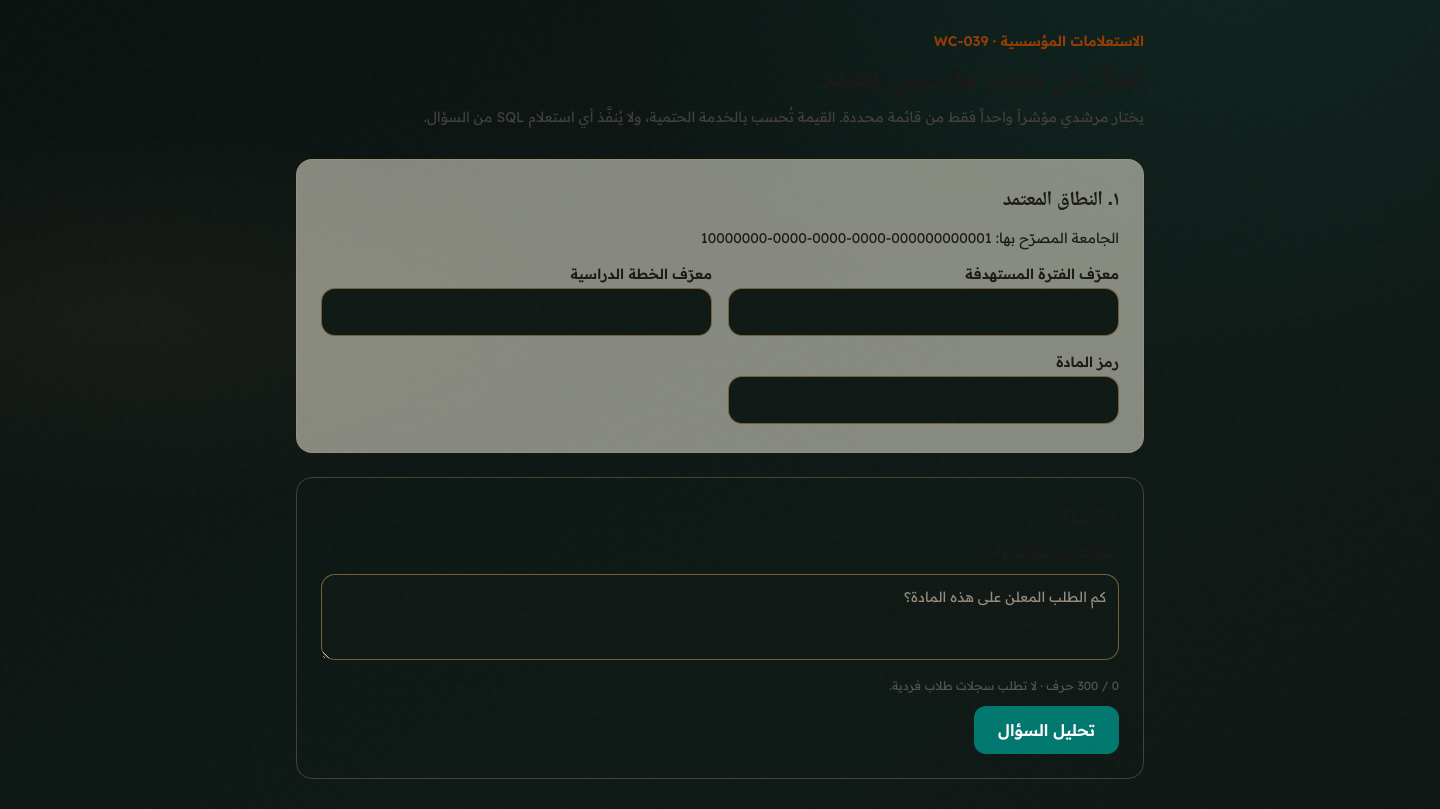
abstention is a safe state and does not show individual data
This screenshot has width=1440, height=809.
In the field labelled "معرّف الفترة المستهدفة": (924, 312) x1=728 y1=288 x2=1119 y2=336, type "20000000-0000-0000-0000-000000000002"
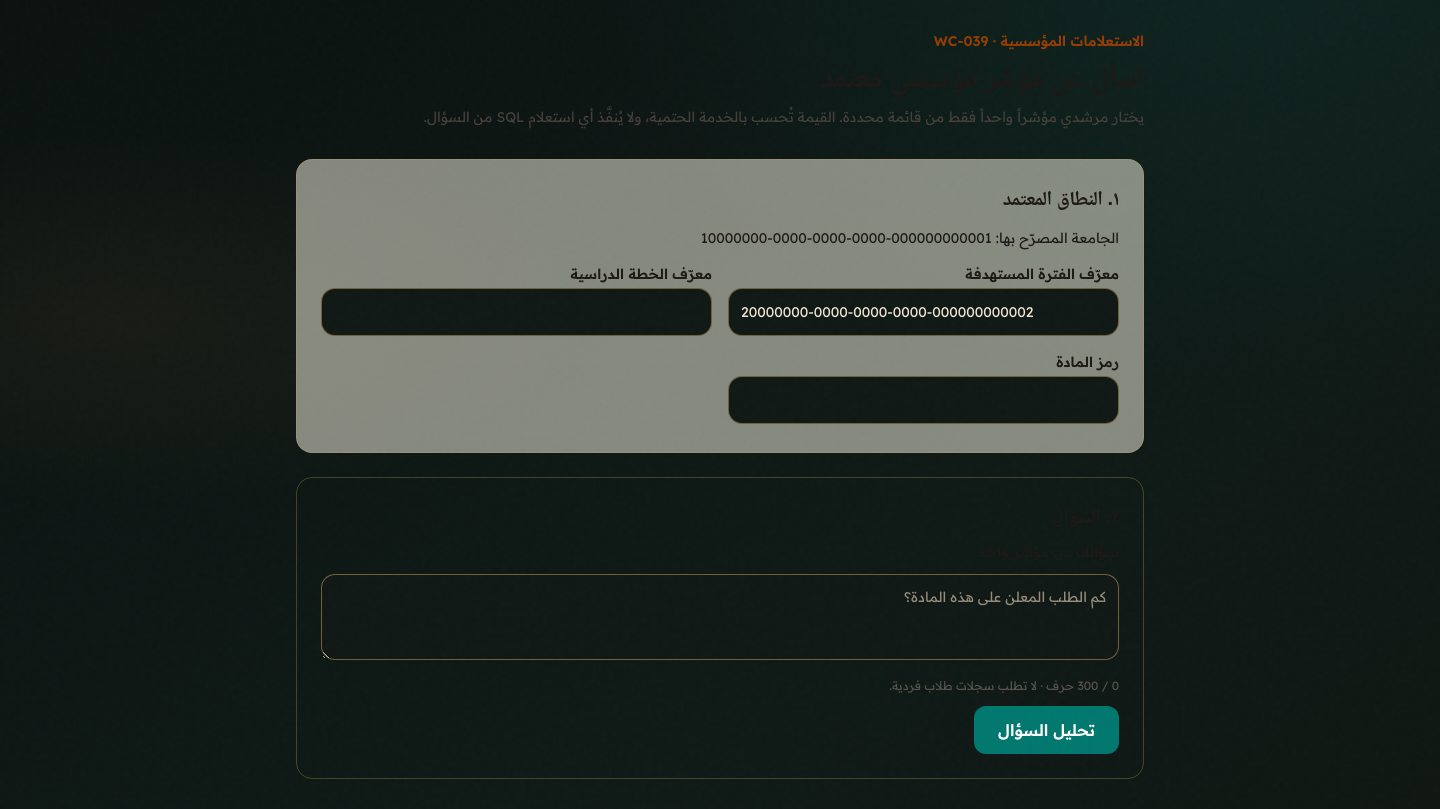
In the field labelled "معرّف الخطة الدراسية": (516, 312) x1=321 y1=288 x2=712 y2=336, type "30000000-0000-0000-0000-000000000003"
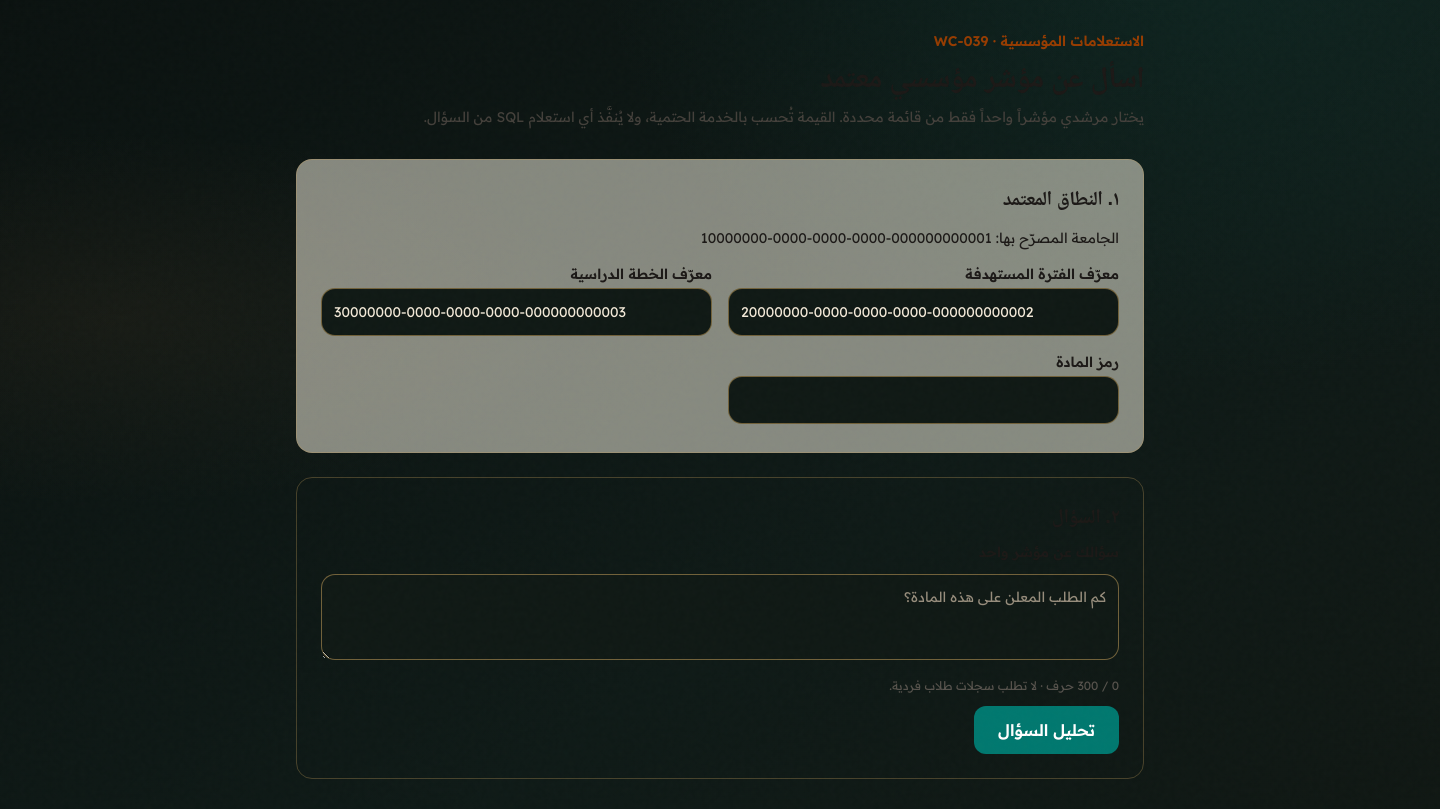
In the field labelled "رمز المادة": (924, 400) x1=728 y1=376 x2=1119 y2=424, type "cs101"
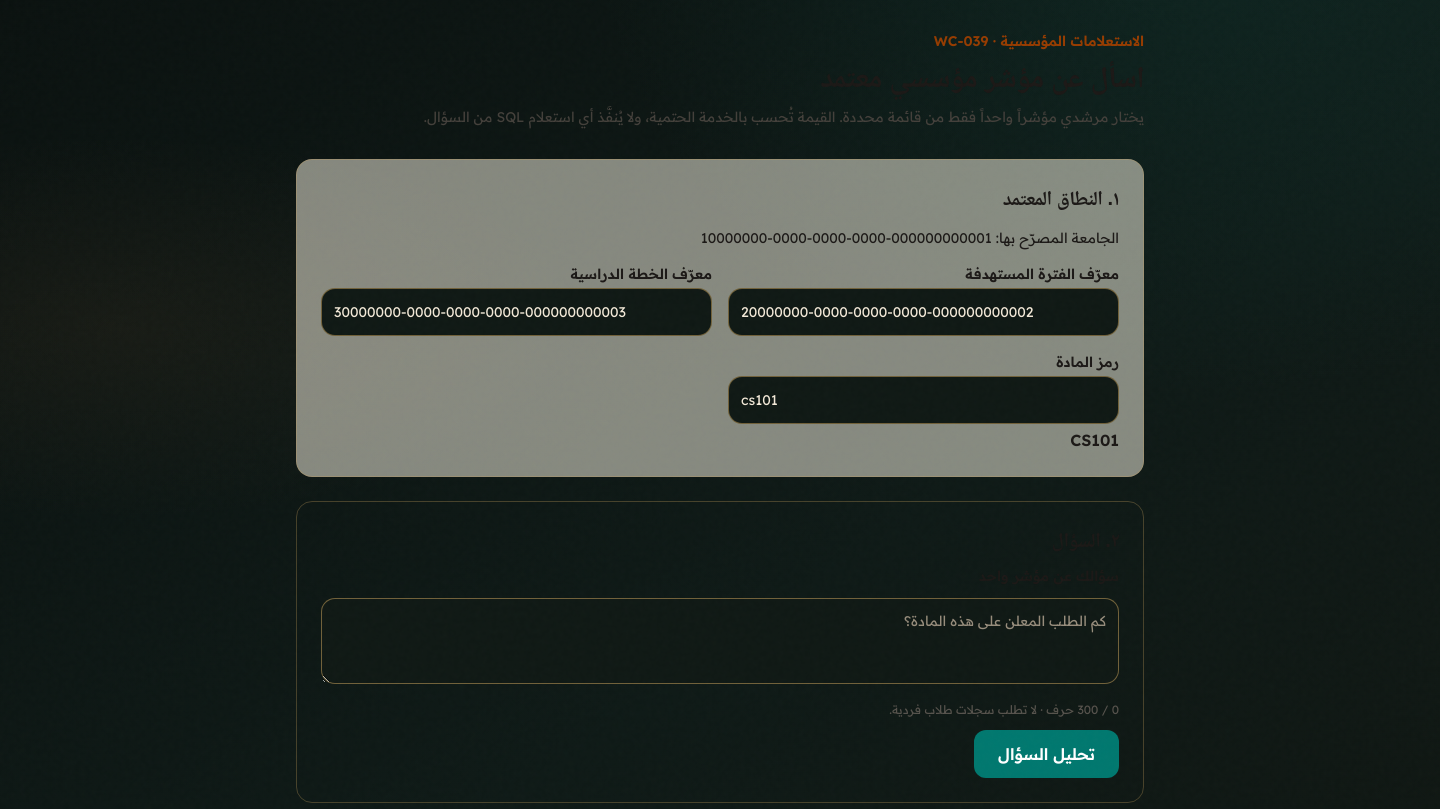
In the text box labelled "سؤالك عن مؤشر واحد": (720, 641) x1=321 y1=598 x2=1119 y2=684, type "أعطني أسماء الطلاب ومعدلاتهم"
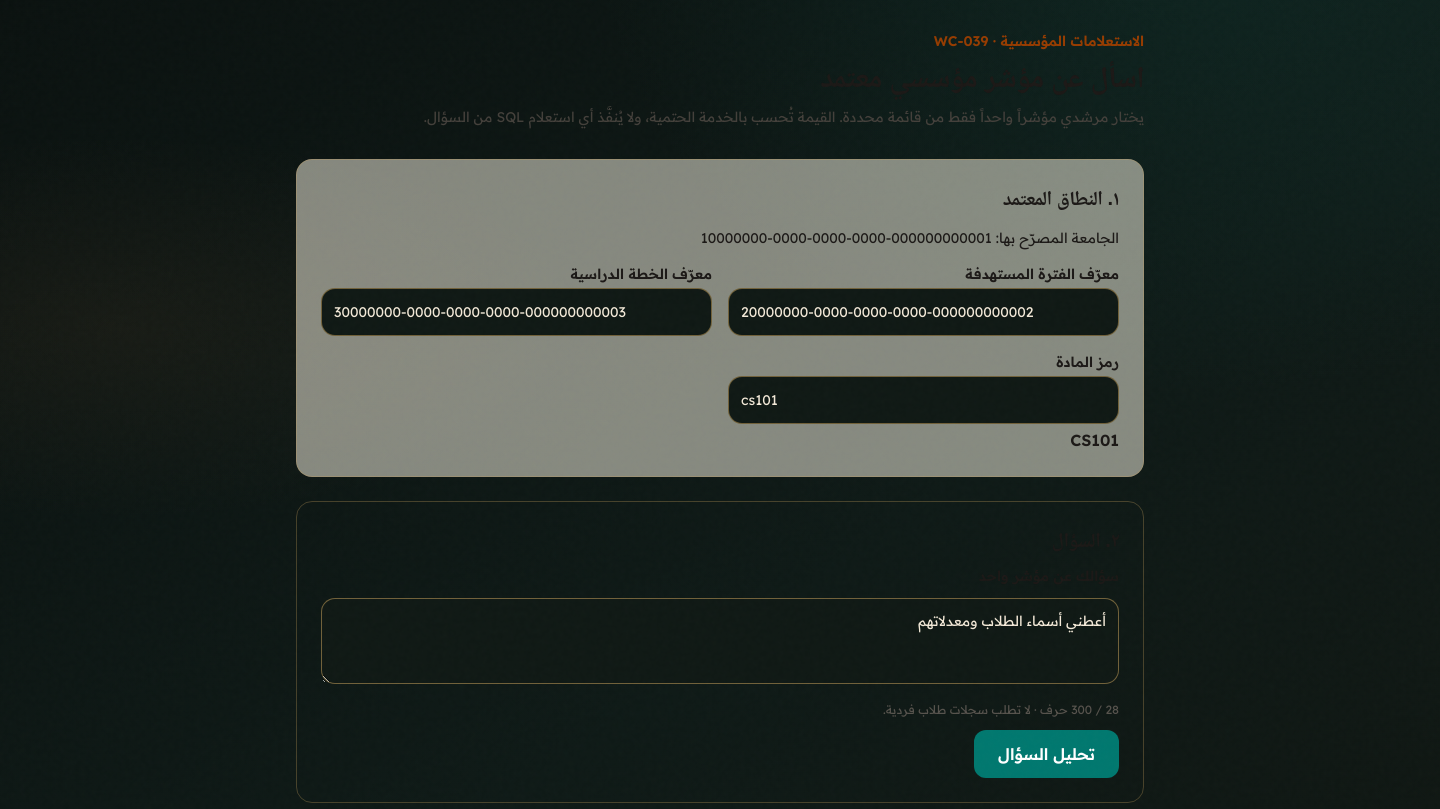
Click the button "تحليل السؤال": (1047, 754) x1=974 y1=730 x2=1119 y2=778
(page scrolled)
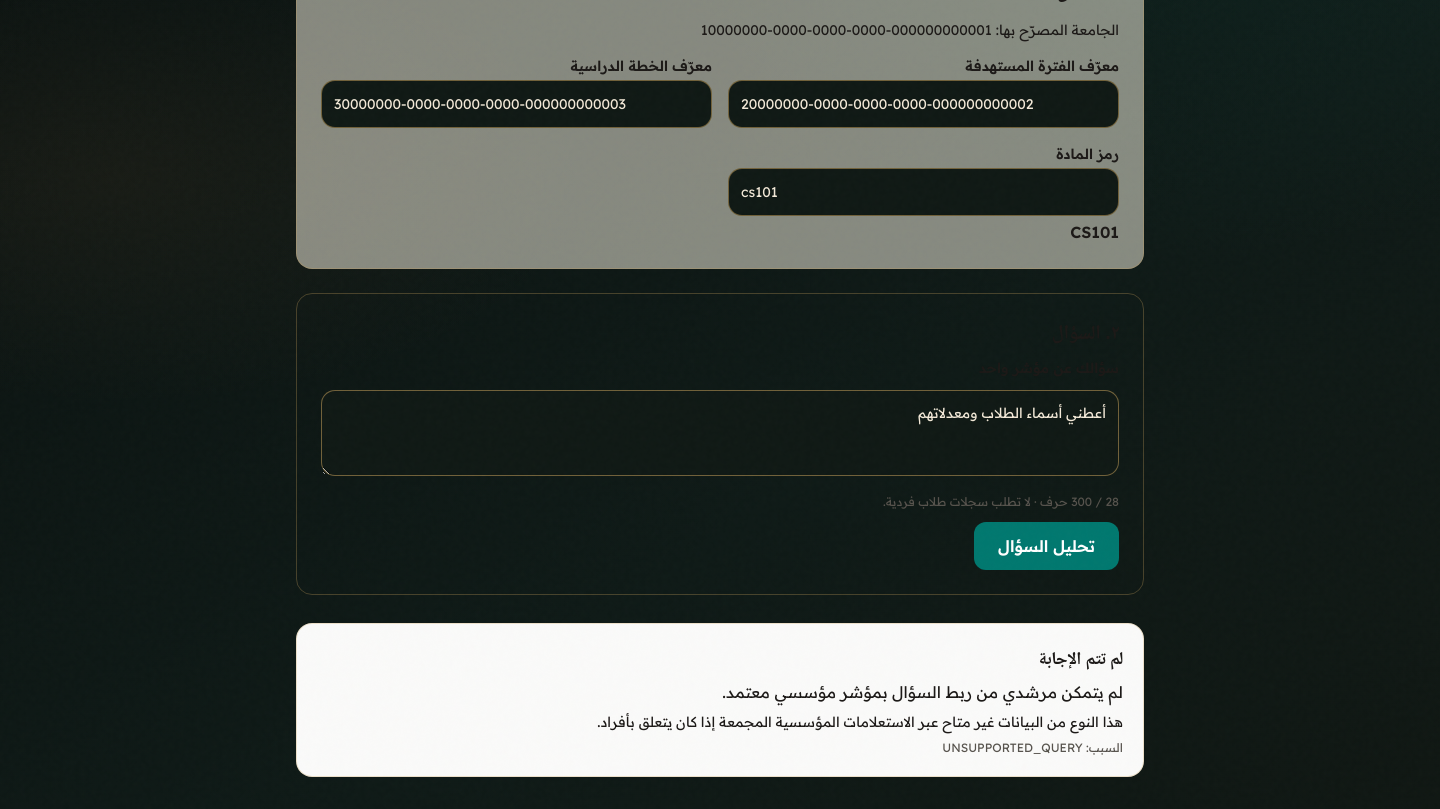
expect the text "لم يتمكن مرشدي من ربط السؤال بمؤشر مؤسسي معتمد." is shown: met, box x1=722 y1=682 x2=1123 y2=702
